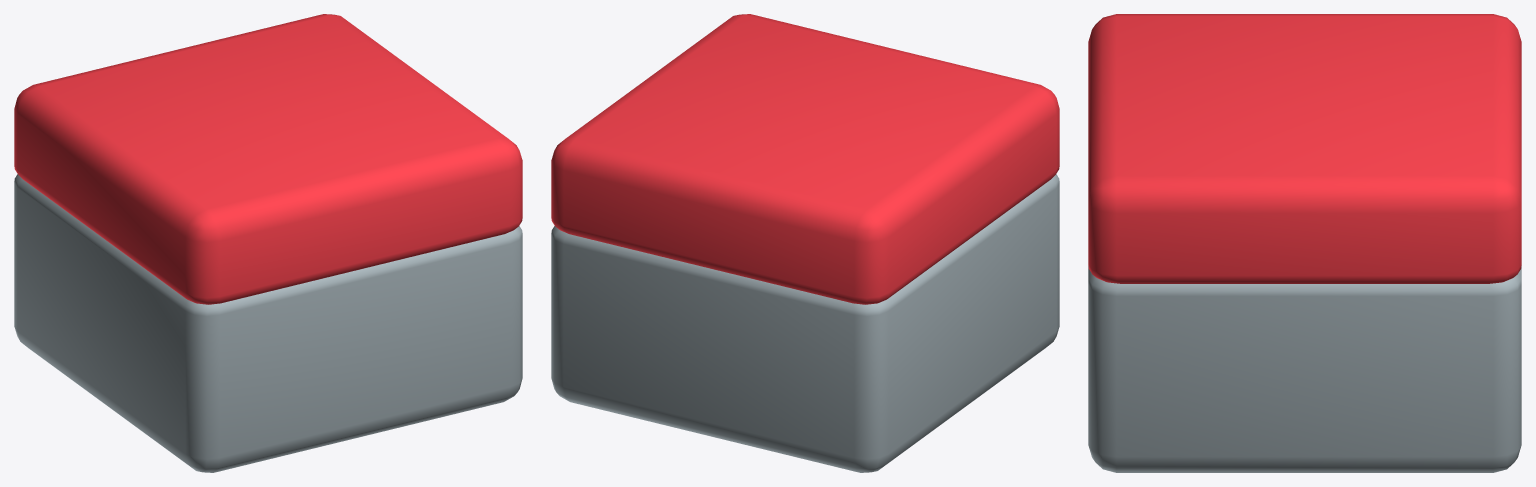
Rendered from tileMedium_teamRed.glb.
3 views of the same model, side by side, from view 1: azimuth 30°, elevation 25°; view 2: azimuth 150°, elevation 25°; view 3: azimuth 270°, elevation 25° (orthographic). The views are drawn at different scales.
Parts seen in each view (by area): view 1: tileMedium_teamRed; view 2: tileMedium_teamRed; view 3: tileMedium_teamRed.
Part boxes in pixels (box(x1,y1,x2,y2)): tileMedium_teamRed: box(14, 14, 522, 472); tileMedium_teamRed: box(551, 14, 1059, 472); tileMedium_teamRed: box(1088, 14, 1521, 472).
Size of the model in its own units: 0.592 by 0.444 by 0.592.
